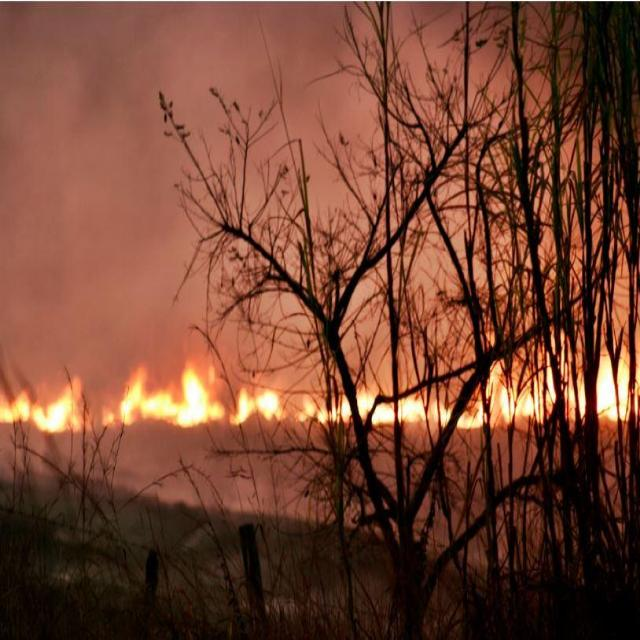Fire: (439, 344, 633, 424), (114, 368, 286, 423), (2, 369, 92, 436), (298, 392, 425, 423)
